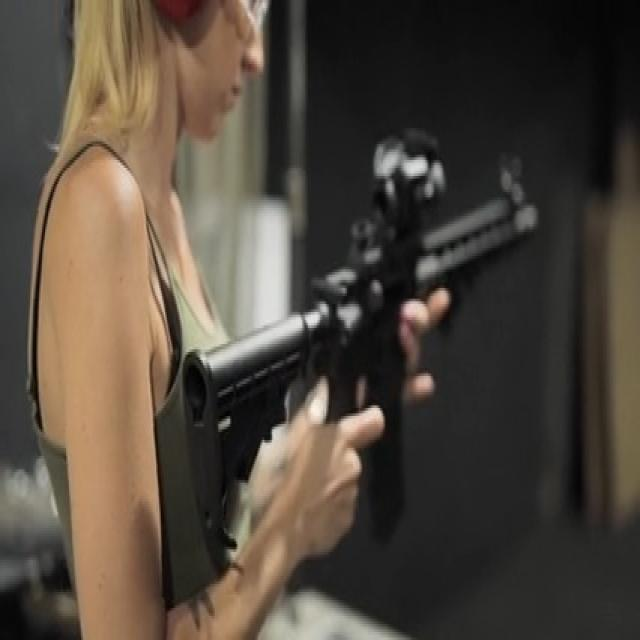Gun_Holder: (161, 116, 569, 613)
Person: (27, 0, 384, 640)
